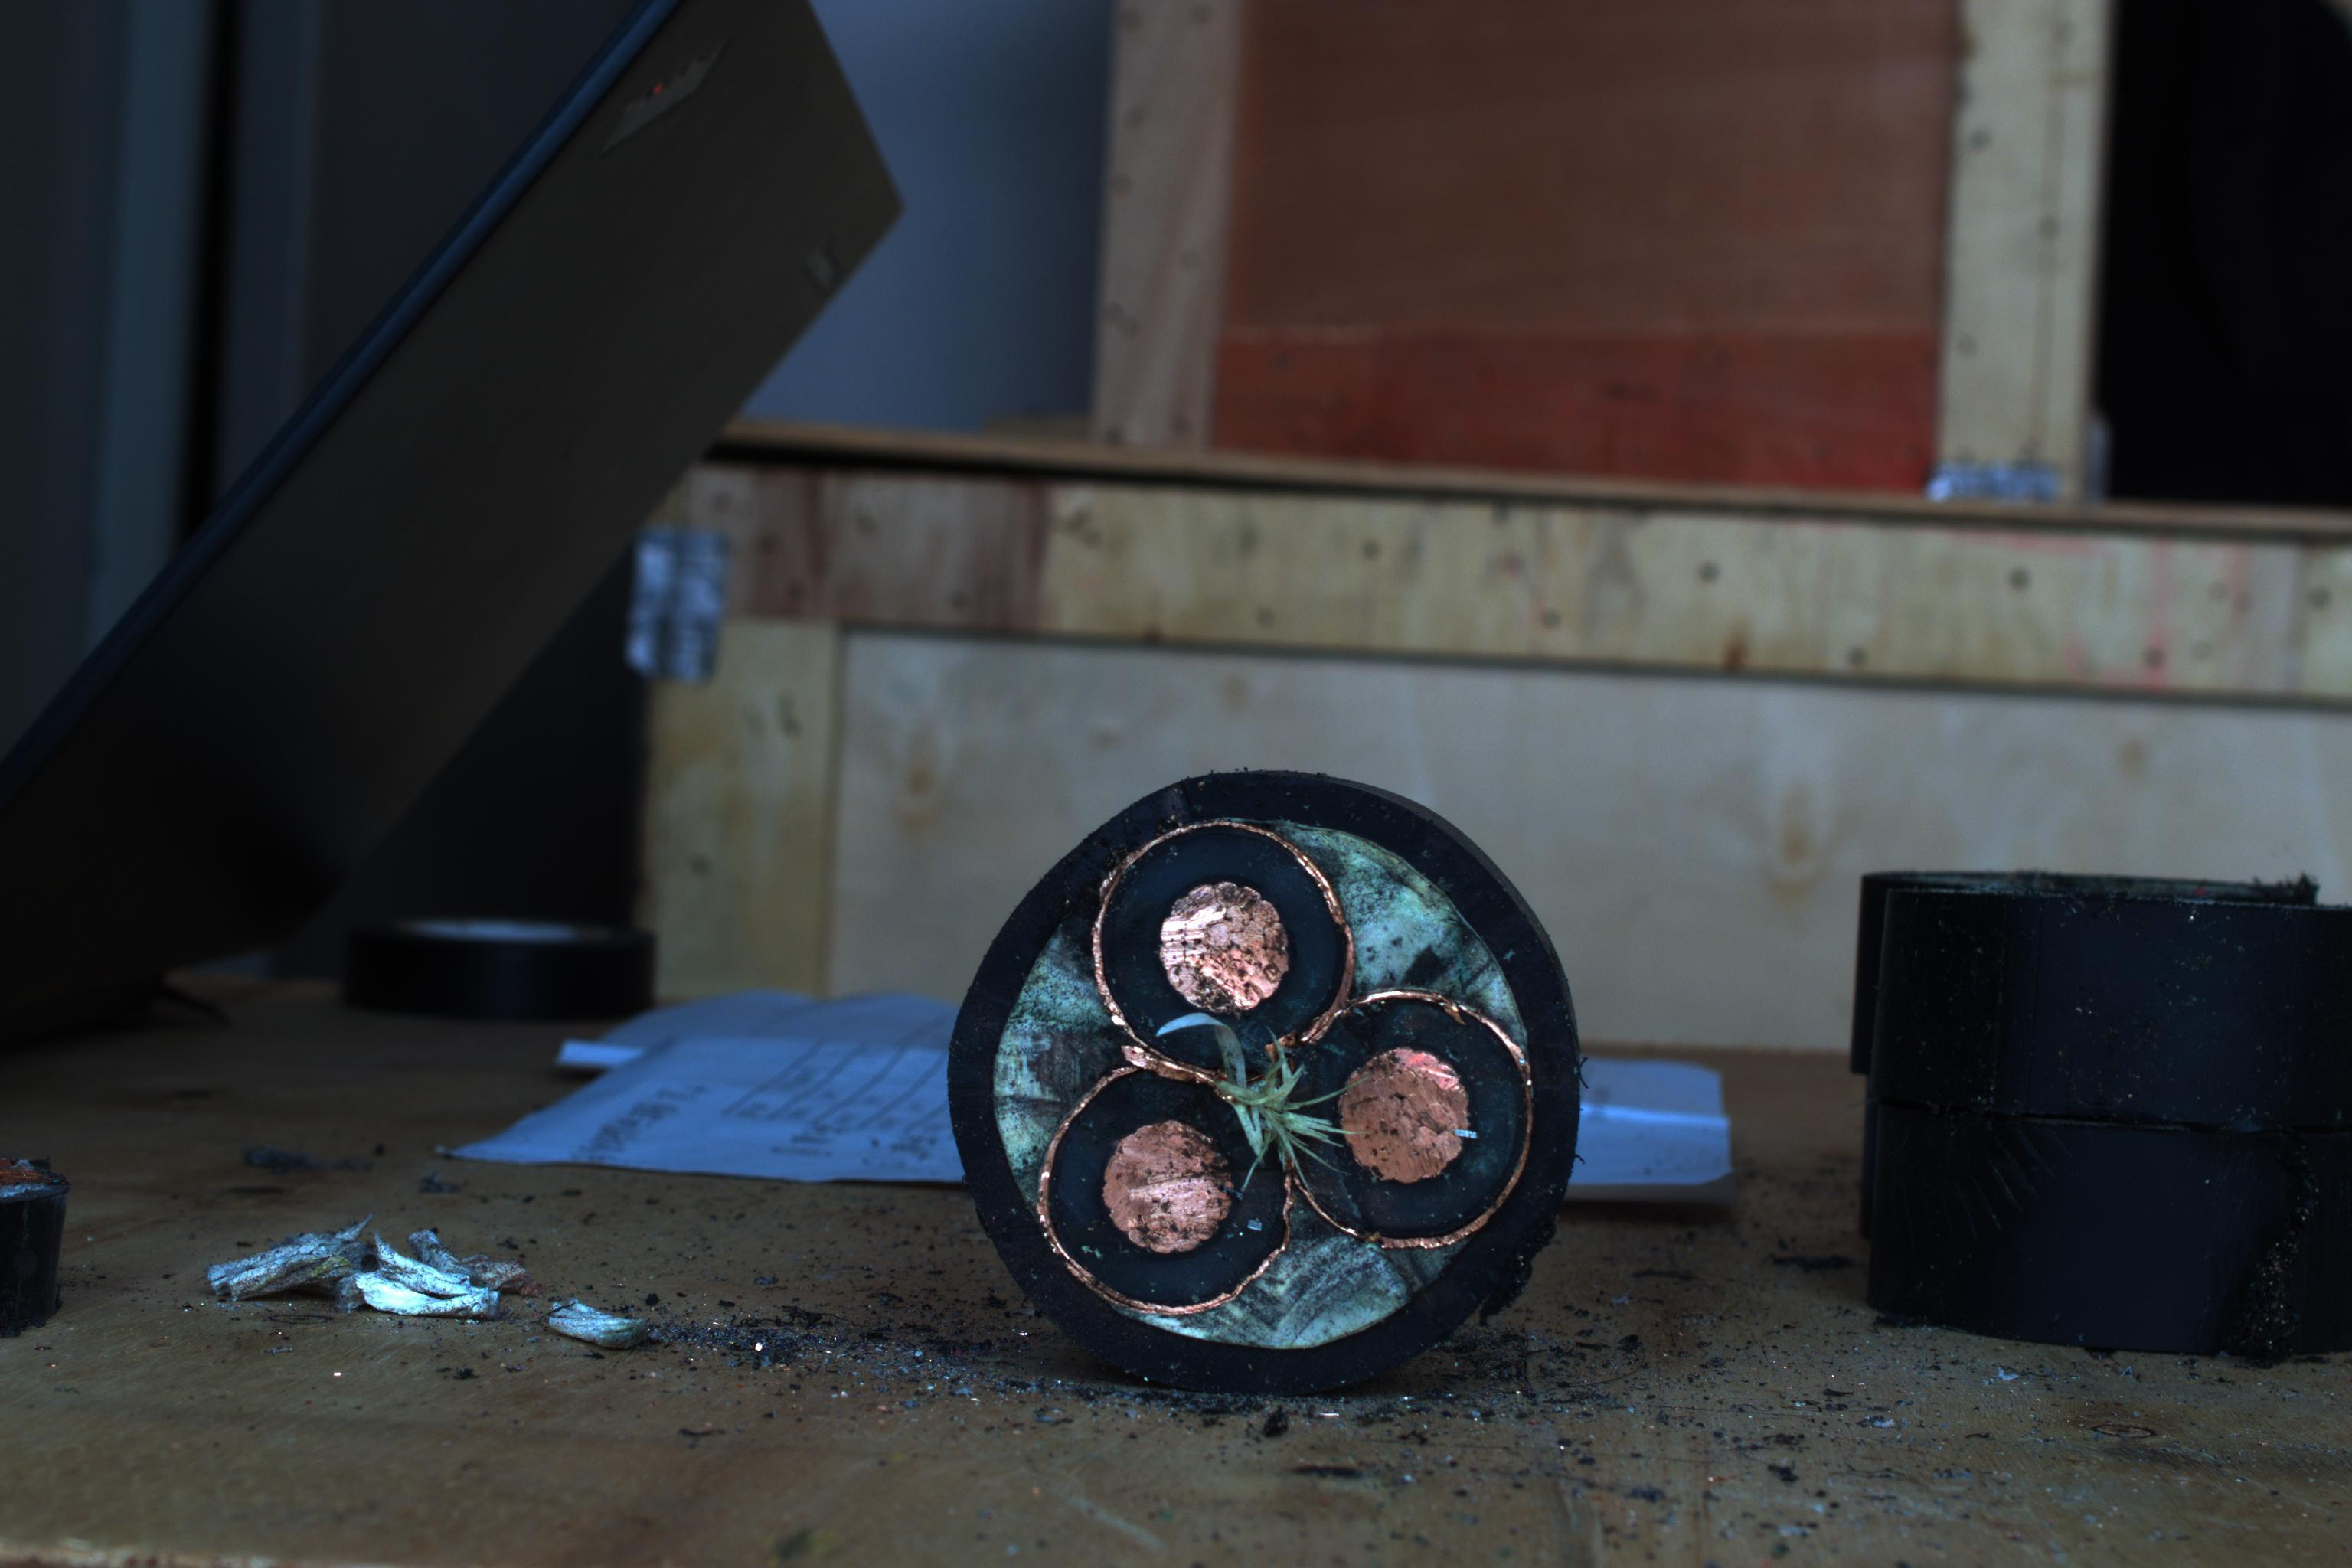ZA_YJV_8.7_10kV_3x120: (964, 777, 1592, 1372)
